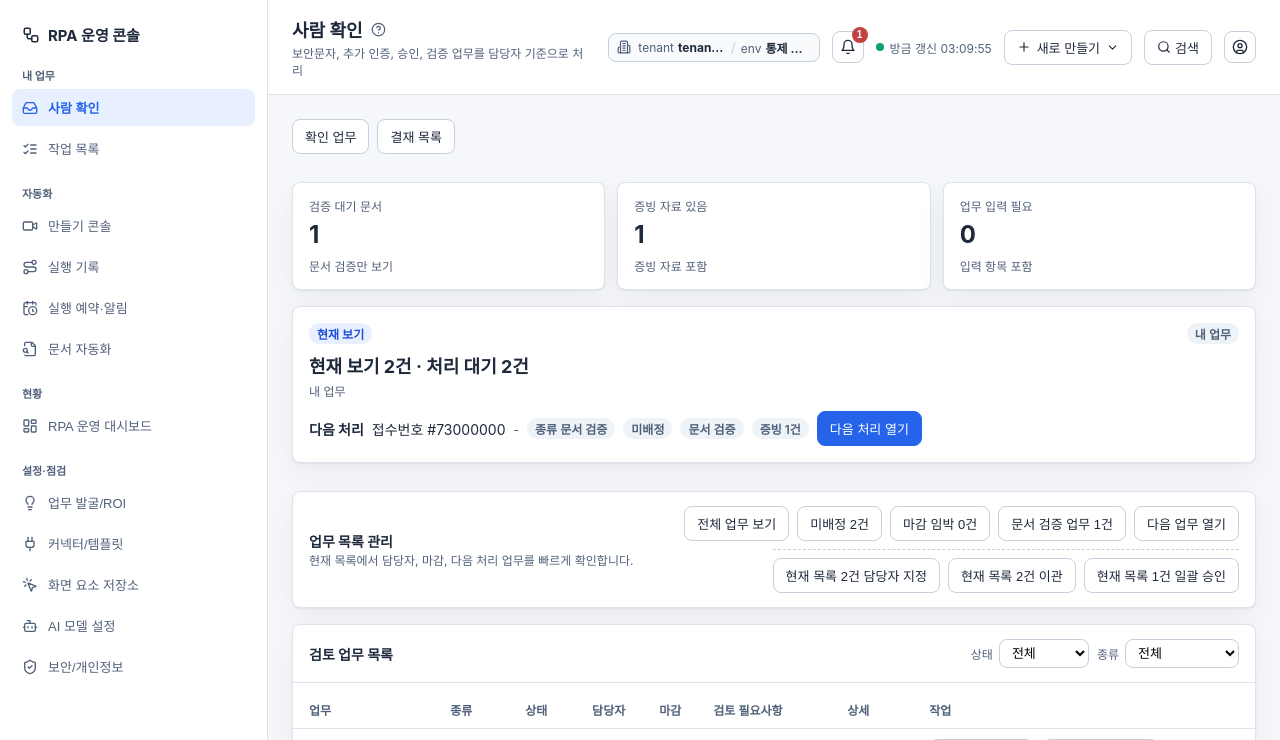
Scenario: HumanTasks 일괄 동작 안전성 › 일괄 배정 부분 실패를 집계해 표면화한다(조용한 false 금지)
The width and height of the screenshot is (1280, 740).
Click the button "현재 목록 2건 담당자 지정" at (856, 576), box top-left (773, 558), bottom-right (940, 593)
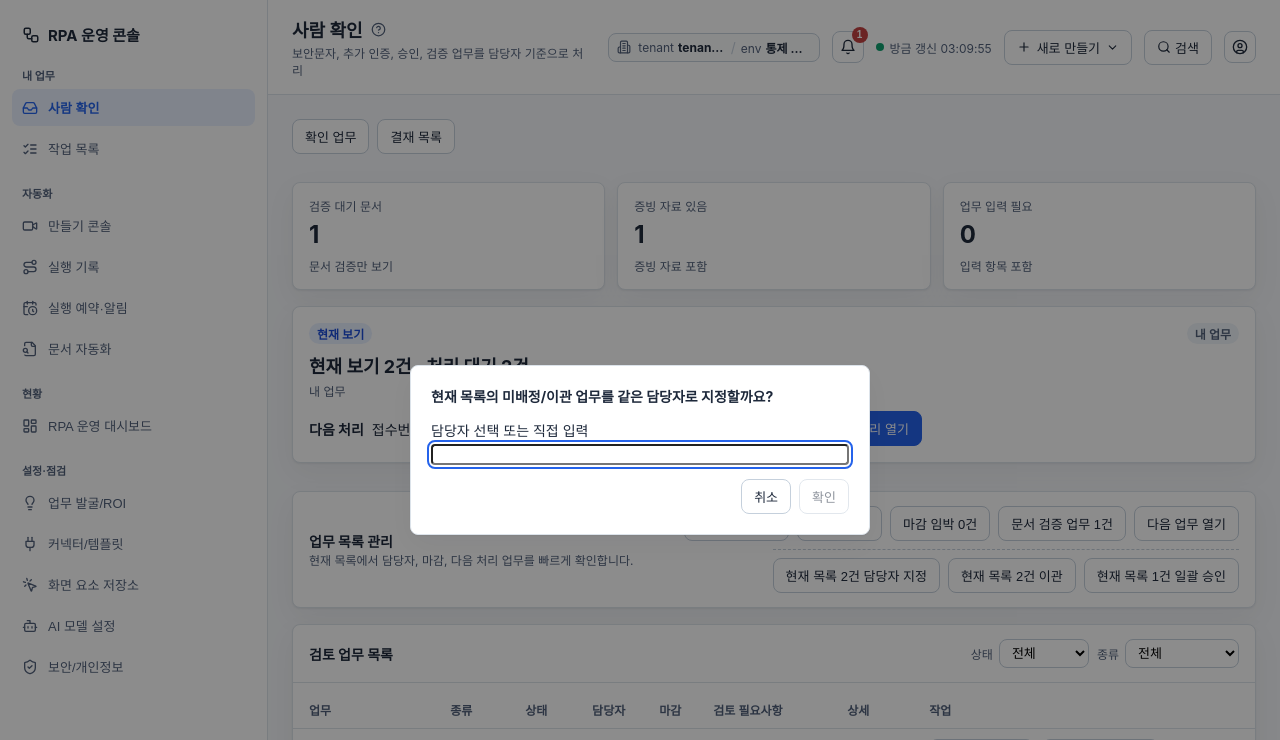
Type "alice" into the field labelled "담당자 선택 또는 직접 입력" at (640, 454), box top-left (431, 444), bottom-right (849, 465)
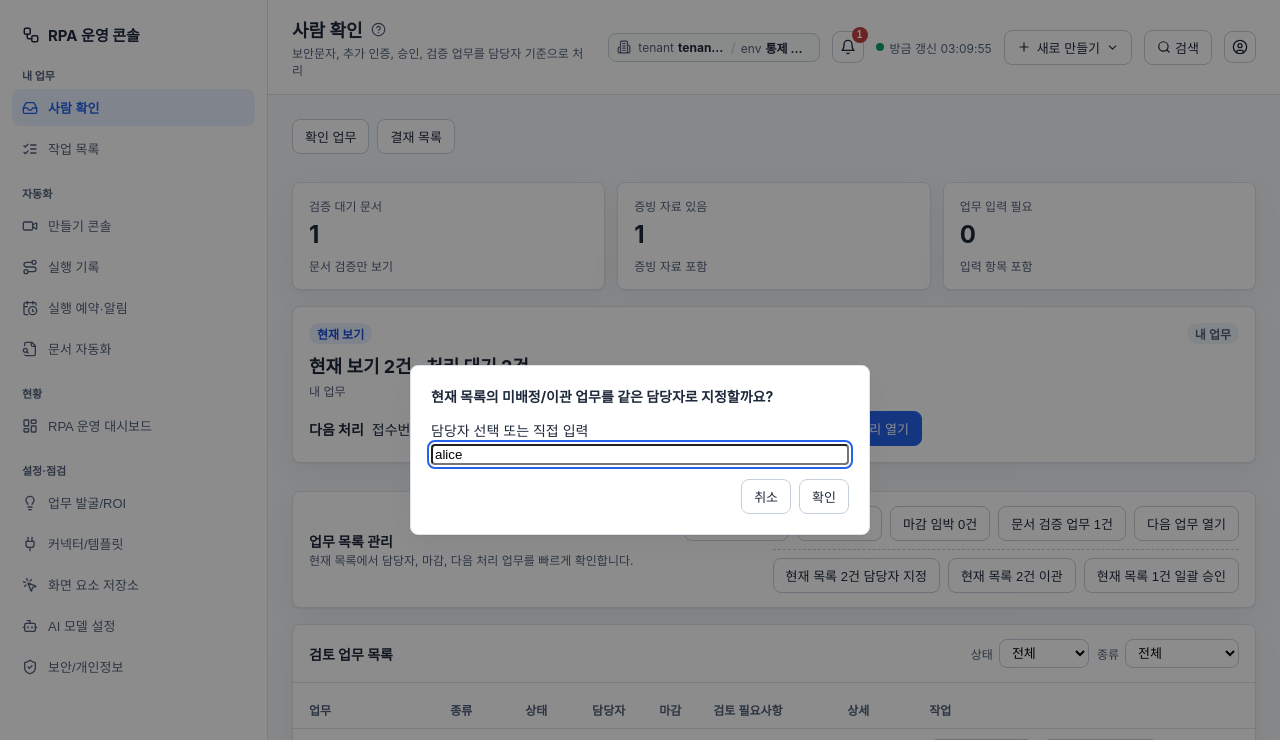
Click the button "확인" at (824, 496), box top-left (799, 479), bottom-right (849, 514)
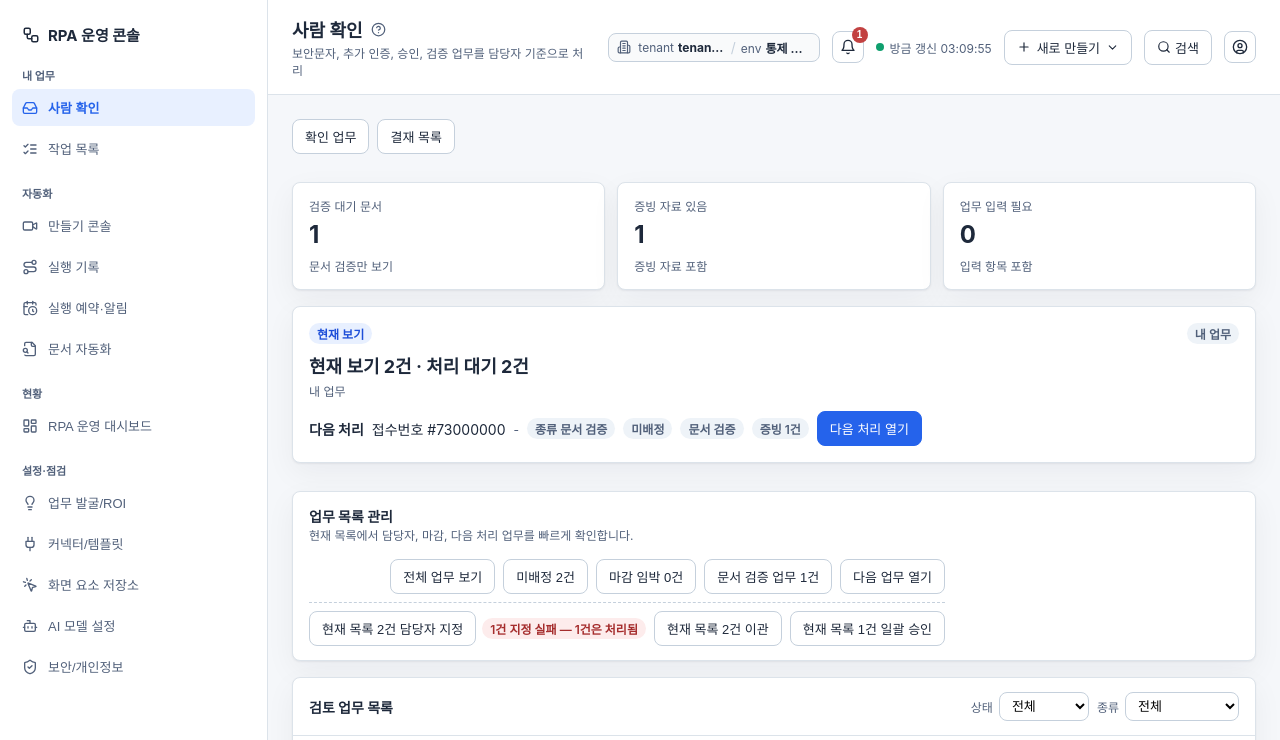
Check: the text "1건 지정 실패 — 1건은 처리됨" is shown, box top-left (482, 618), bottom-right (646, 639)
